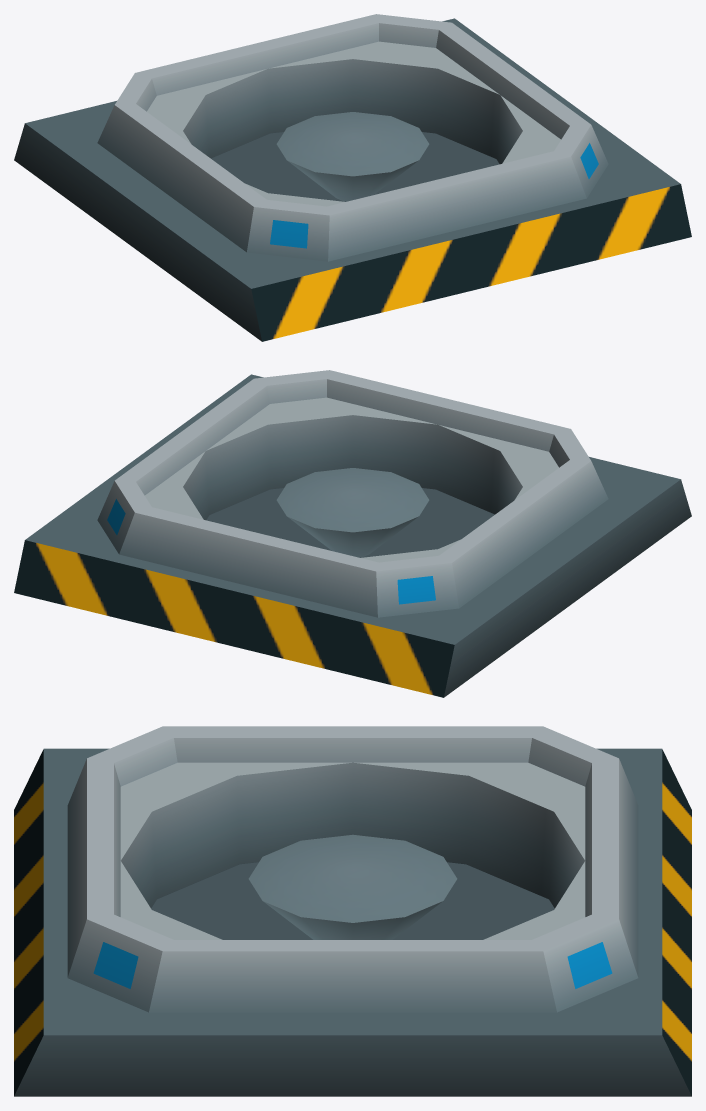
Rendered from Ventilation_005.fbx.
The picture shows the model from 3 angles, top to bottom: view 1: azimuth 30°, elevation 25°; view 2: azimuth 150°, elevation 25°; view 3: azimuth 270°, elevation 25°; orthographic projection. The views are drawn at different scales.
Visible parts, largest first — view 1: Ventilation_005; view 2: Ventilation_005; view 3: Ventilation_005.
Part boxes in pixels (left/top/right/bottom): Ventilation_005: left=14, top=14, right=691, bottom=341; Ventilation_005: left=14, top=370, right=691, bottom=697; Ventilation_005: left=14, top=726, right=691, bottom=1096.
Size of the model in its own units: 100 by 100 by 21.38.
